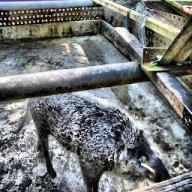boar: (21, 90, 172, 192)
